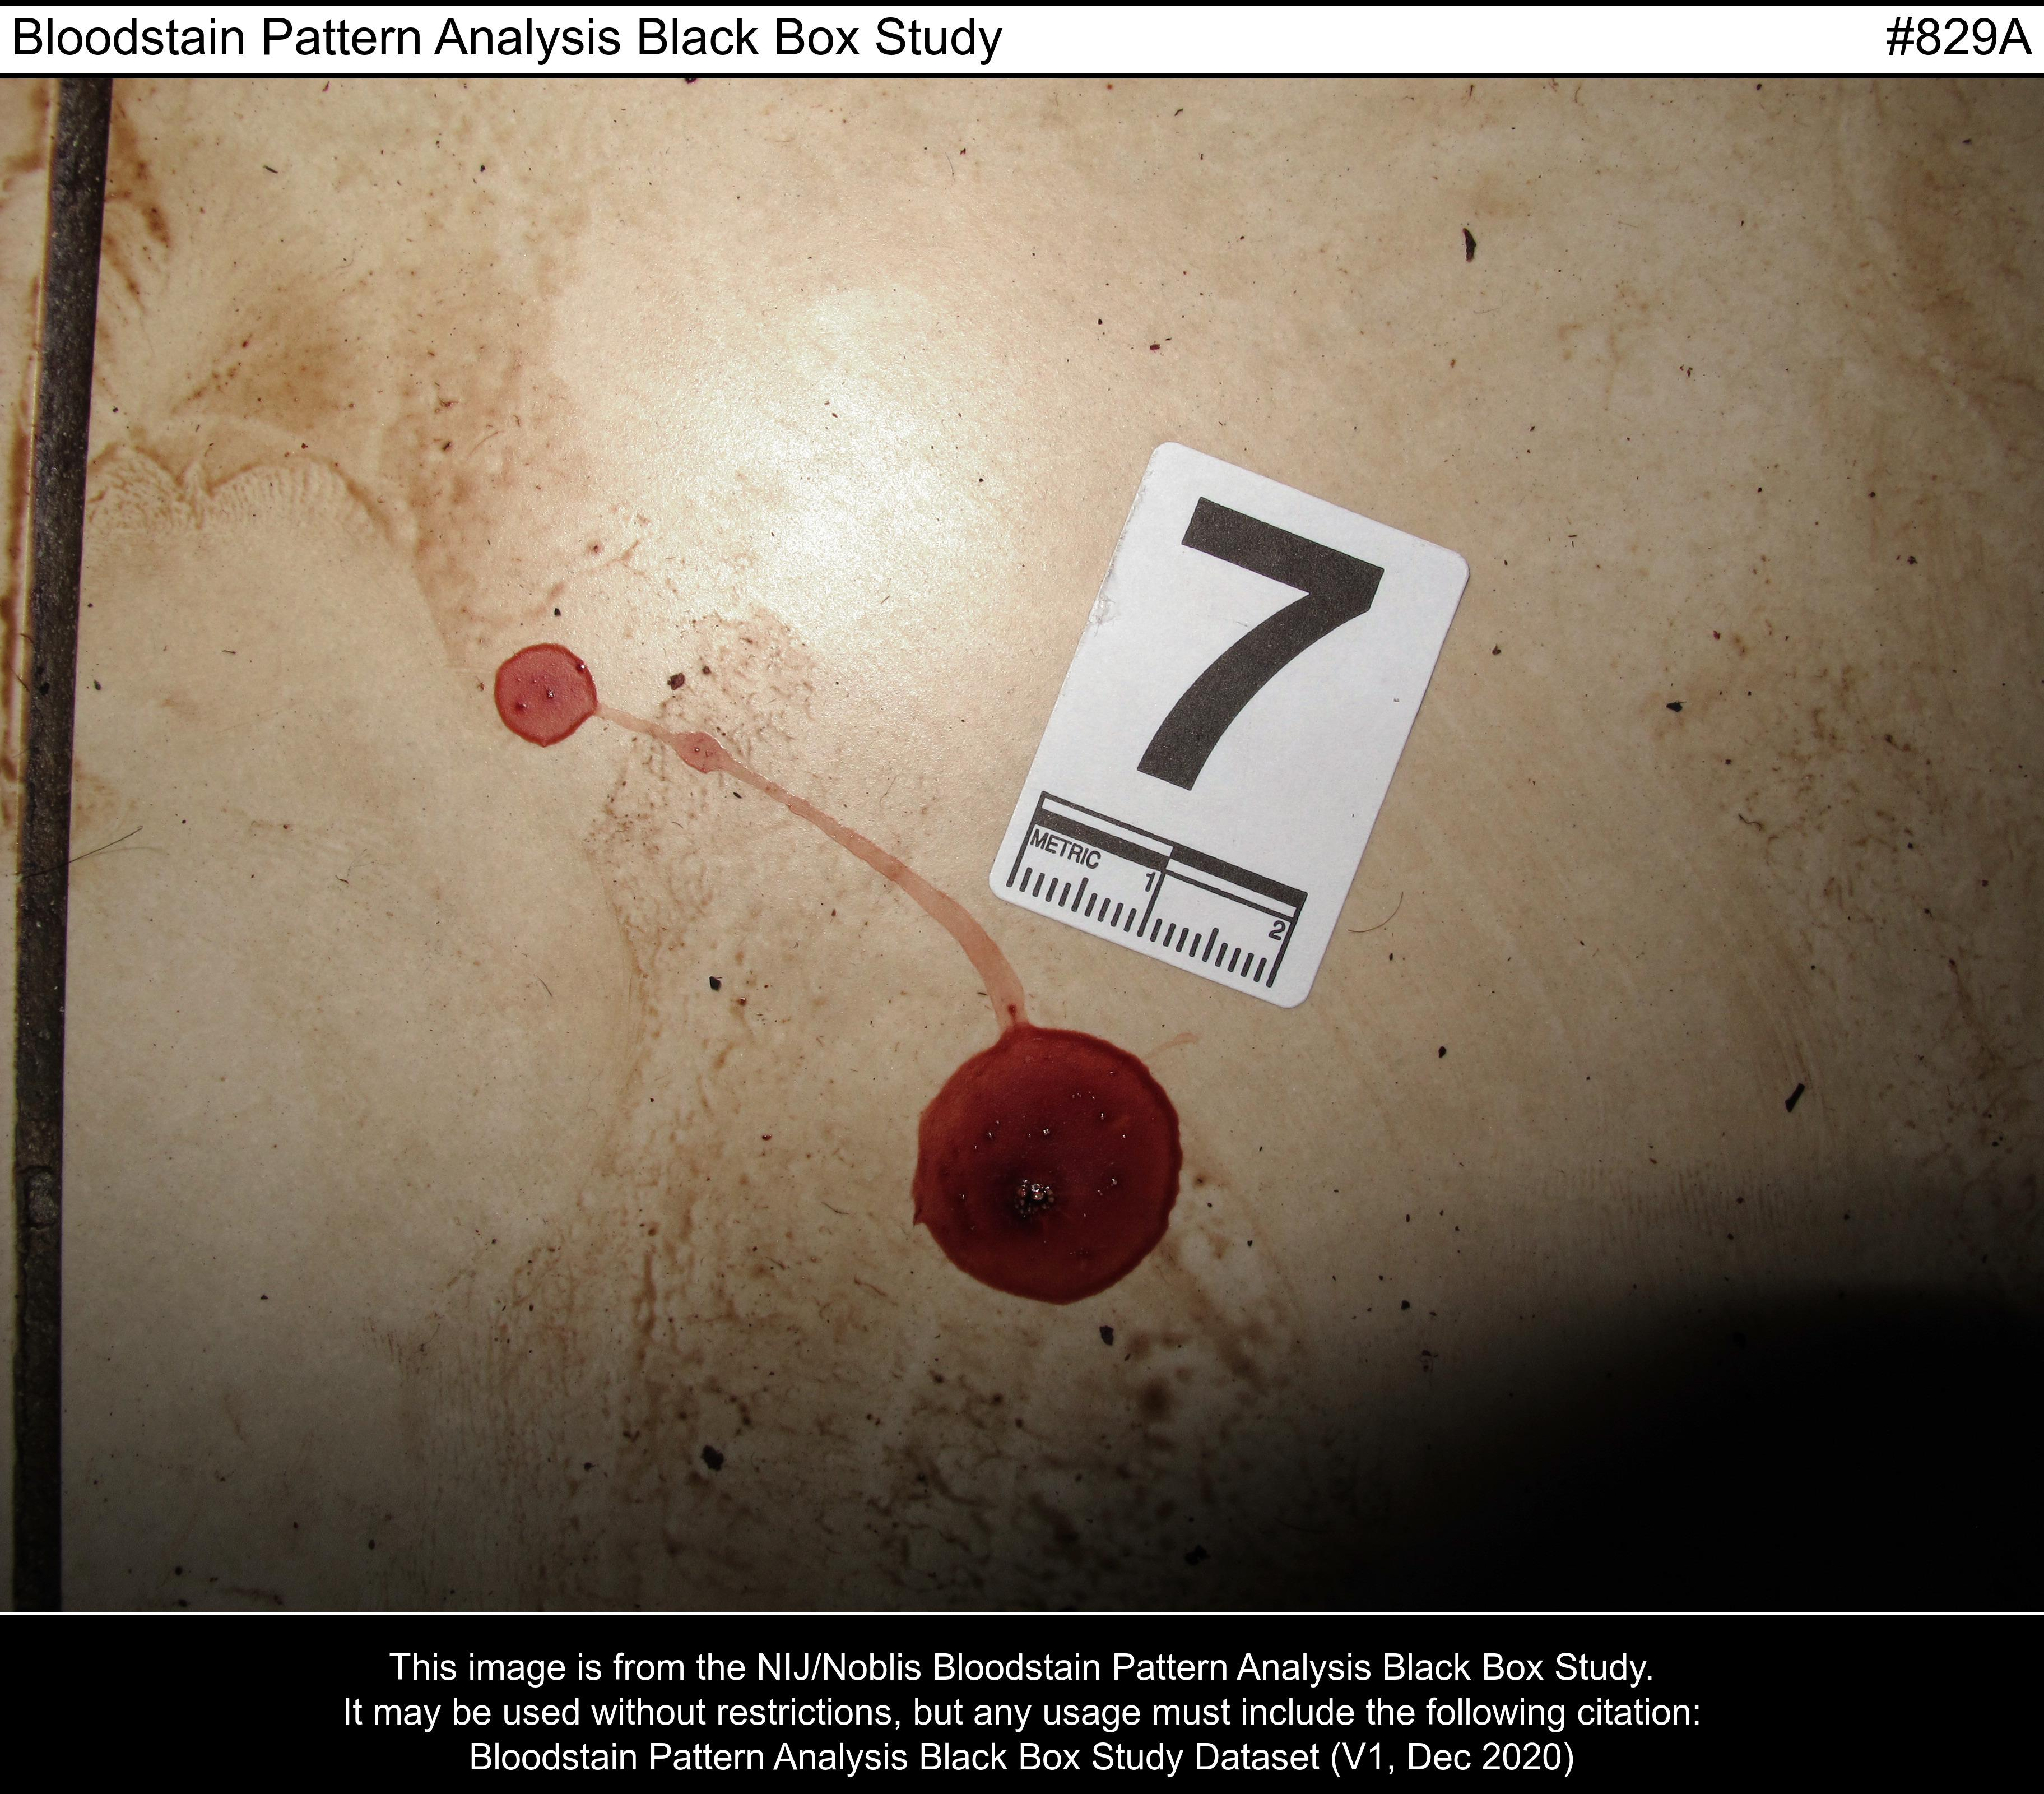Passive: (358, 431, 1530, 1370)
